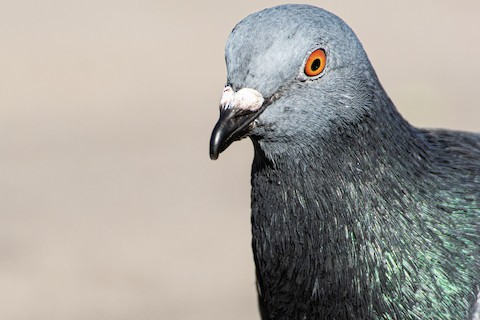pigeon: (206, 4, 469, 313)
